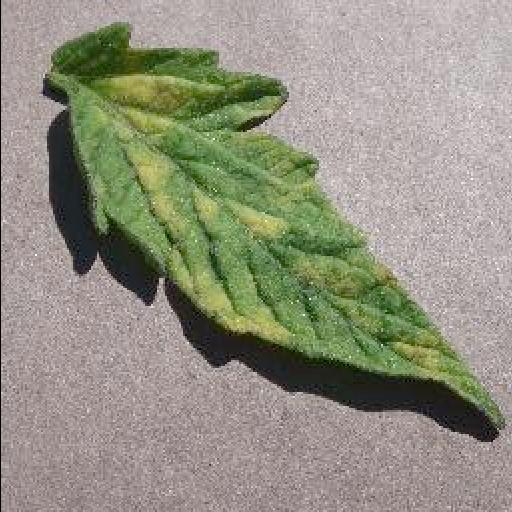disease_tomato: (42, 24, 506, 428)
